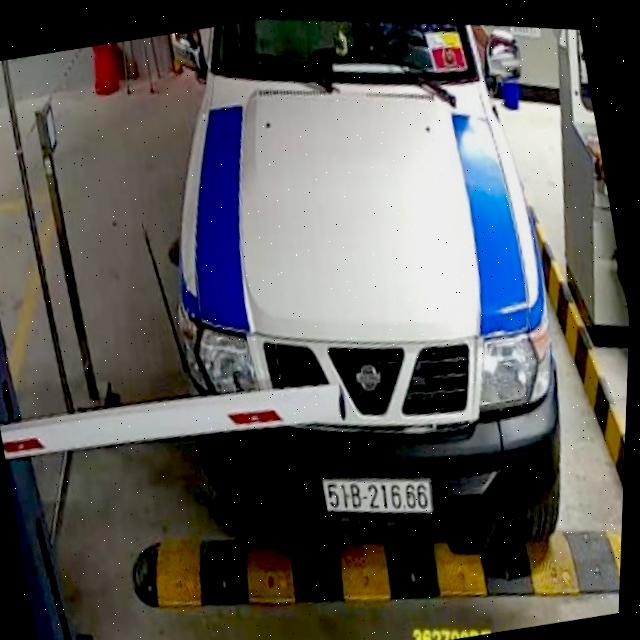car: (102, 6, 625, 624)
plate: (309, 446, 445, 544)
